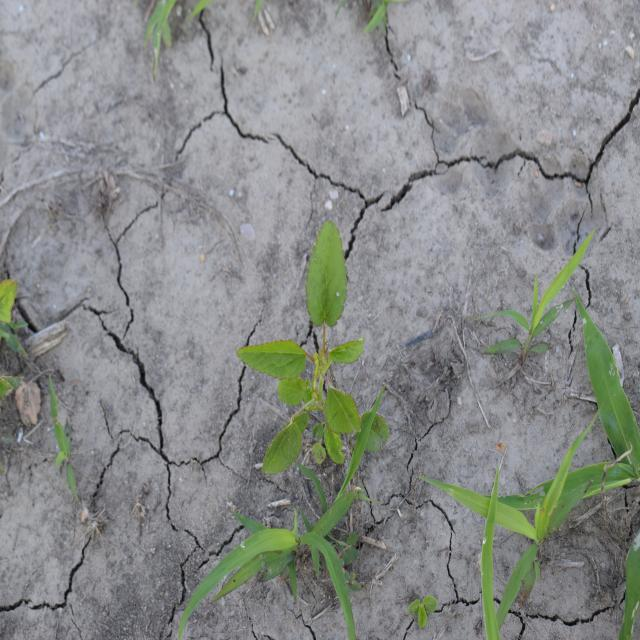PricklySida: (235, 217, 391, 478)
